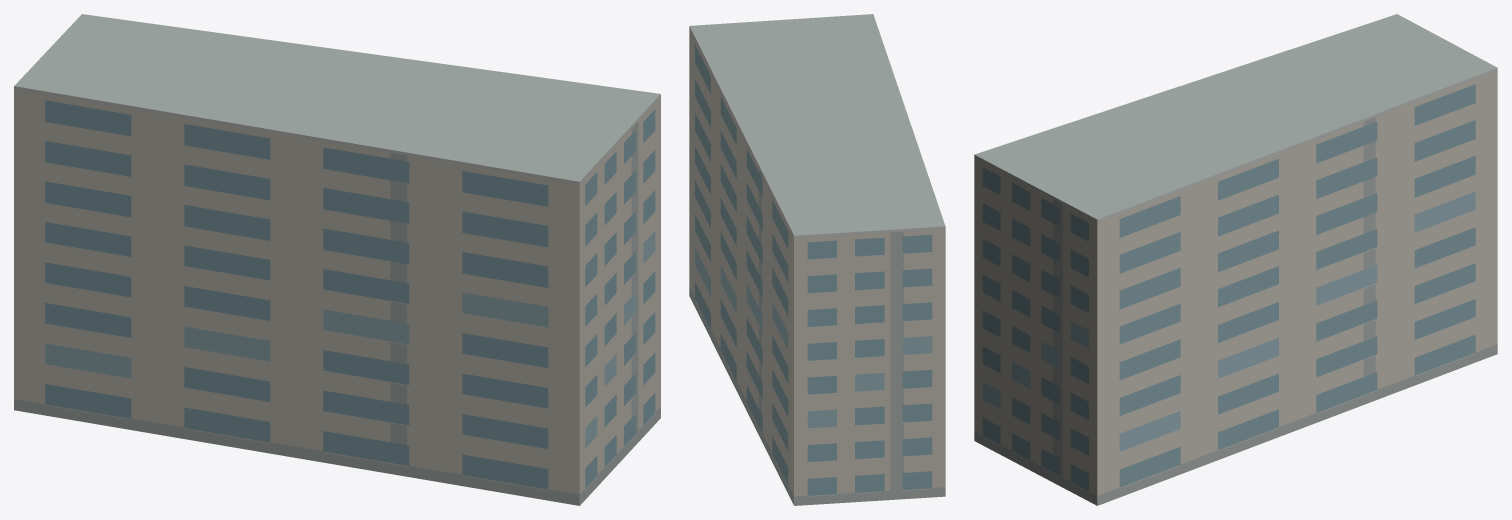
File: residential-56df69f3-5aee-41fc-b5bb-46fadced1095.glb
The picture shows the model from 3 angles, left to right: view 1: azimuth 30°, elevation 25°; view 2: azimuth 150°, elevation 25°; view 3: azimuth 270°, elevation 25°; orthographic projection. The views are drawn at different scales.
Visible parts, largest first — view 1: residential-56df69f3-5aee-41fc-b5bb-46fadced1095.tmp; view 2: residential-56df69f3-5aee-41fc-b5bb-46fadced1095.tmp; view 3: residential-56df69f3-5aee-41fc-b5bb-46fadced1095.tmp.
Part boxes in pixels (<box>): residential-56df69f3-5aee-41fc-b5bb-46fadced1095.tmp: <box>14,14,660,505</box>; residential-56df69f3-5aee-41fc-b5bb-46fadced1095.tmp: <box>689,14,945,505</box>; residential-56df69f3-5aee-41fc-b5bb-46fadced1095.tmp: <box>974,14,1497,505</box>.
Size of the model in its own units: 36.98 by 24 by 39.78.
